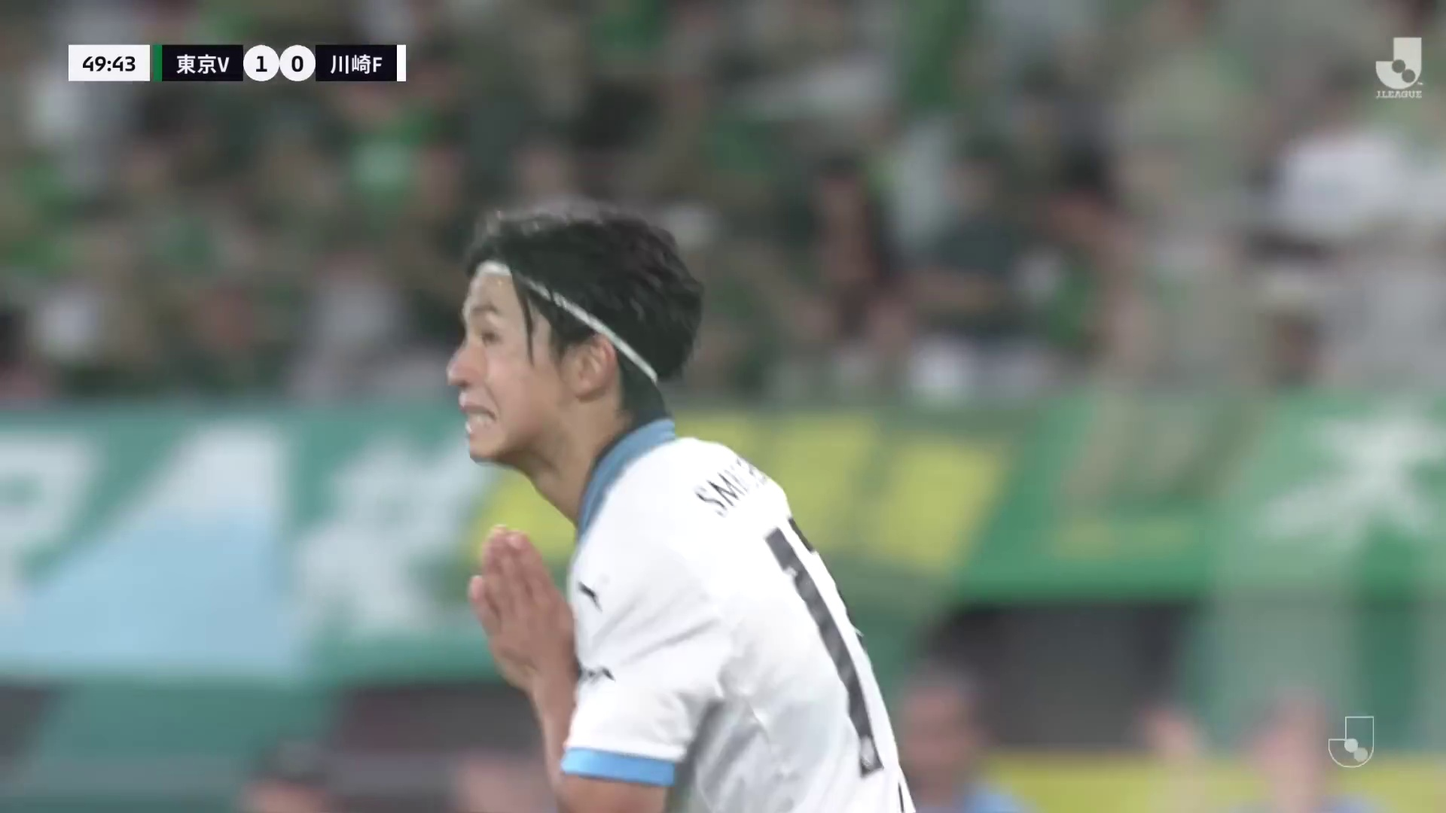player: (442, 206, 925, 813)
